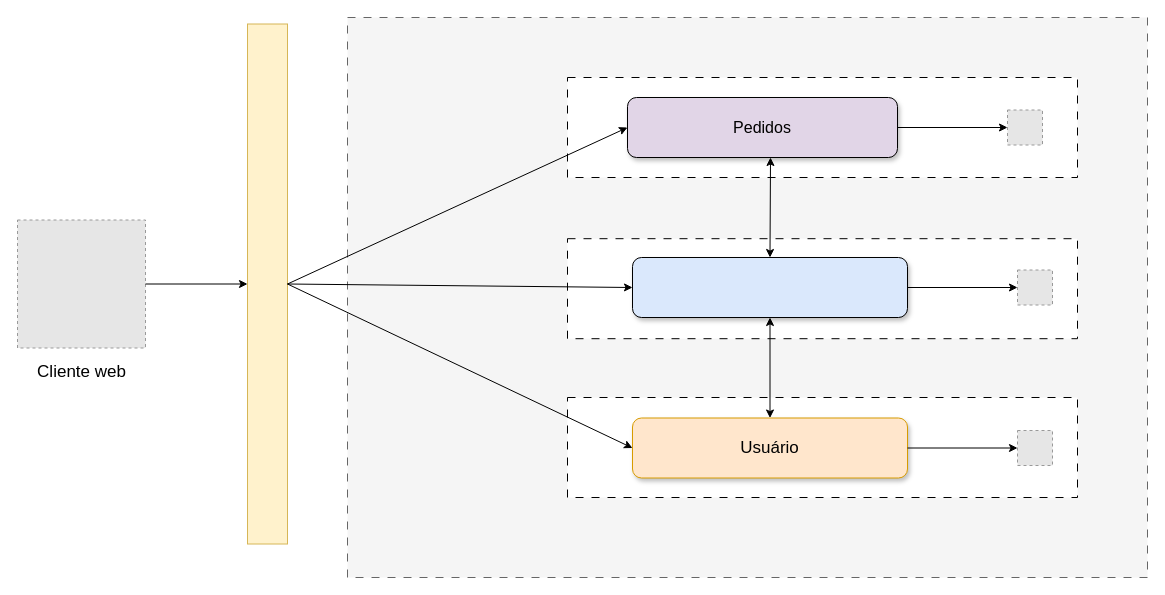
This 1165x595 diagram has some shape labels left out. Grey dashed boxes stand in for pictures. The shapes that lost their labels are listed below. From the top down, each one's centre as x and y in pixels, then its label:
the point at 267,283: Roteador de tráfego
the point at 771,288: Catálogo
